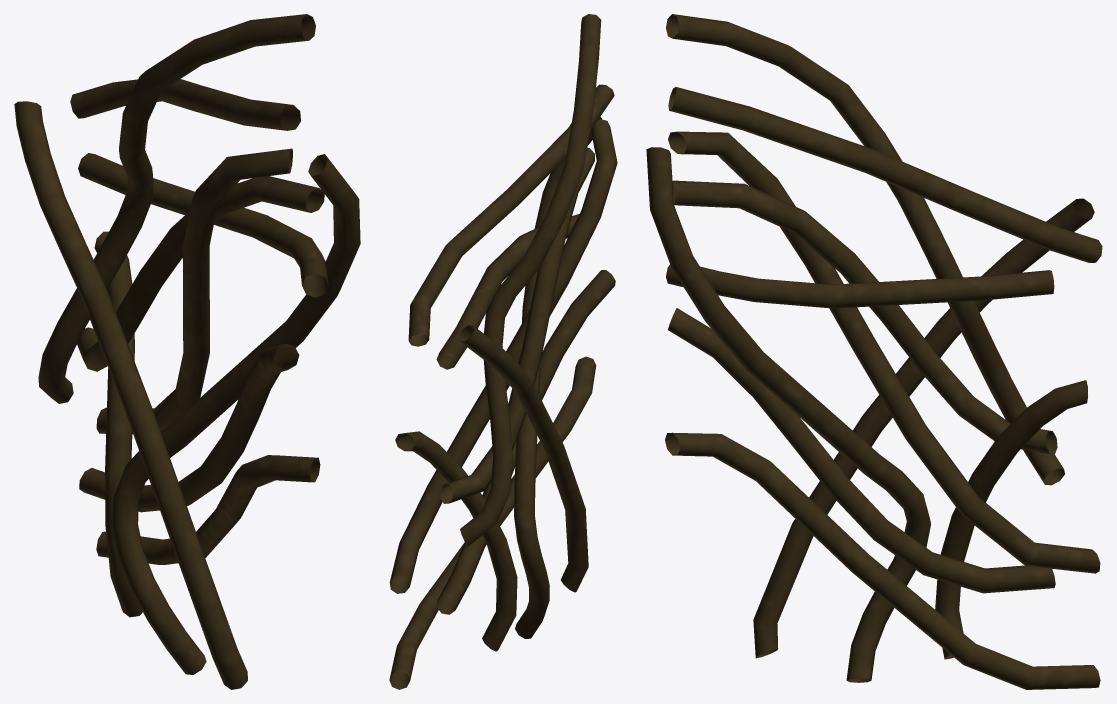
3 renders of one model, left to right at view 1: azimuth 30°, elevation 25°; view 2: azimuth 150°, elevation 25°; view 3: azimuth 270°, elevation 25°, orthographic. The views are drawn at different scales.
Visible parts, largest first — view 1: FF_P3; view 2: FF_P3; view 3: FF_P3.
Boxes of the visible parts, x1,y1,x2,y2 form: FF_P3: [14, 14, 360, 689]; FF_P3: [389, 14, 617, 689]; FF_P3: [646, 14, 1102, 689].
Size of the model in its own units: 74.5 by 357 by 218.
1 material, 1 textured.
